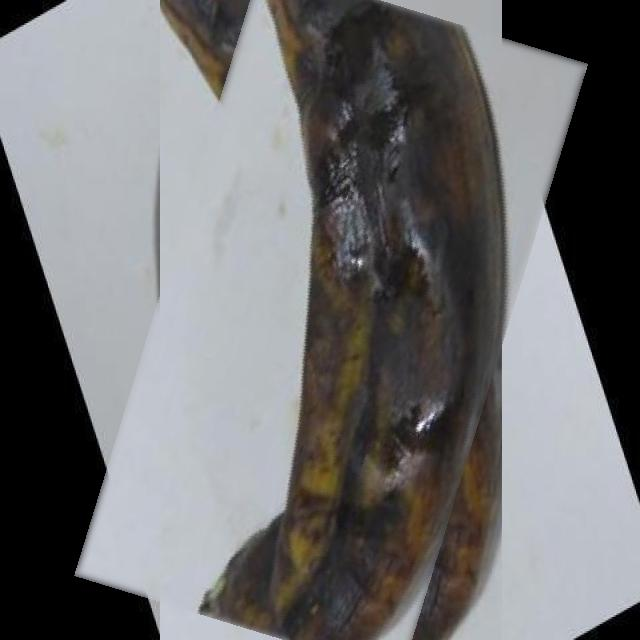Podre: (117, 0, 545, 640)
